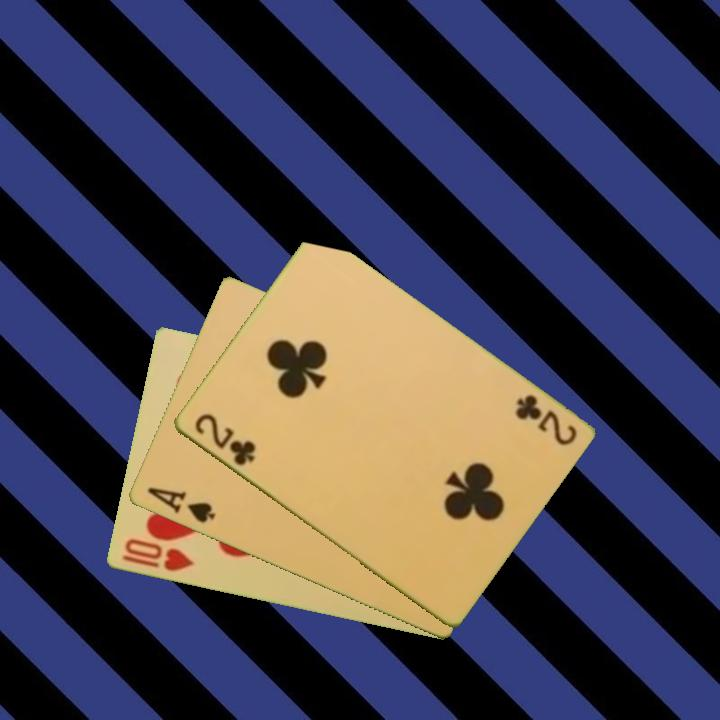10h: (118, 535, 197, 575)
2c: (190, 410, 258, 469), (511, 391, 580, 449)
As: (143, 484, 218, 526)
